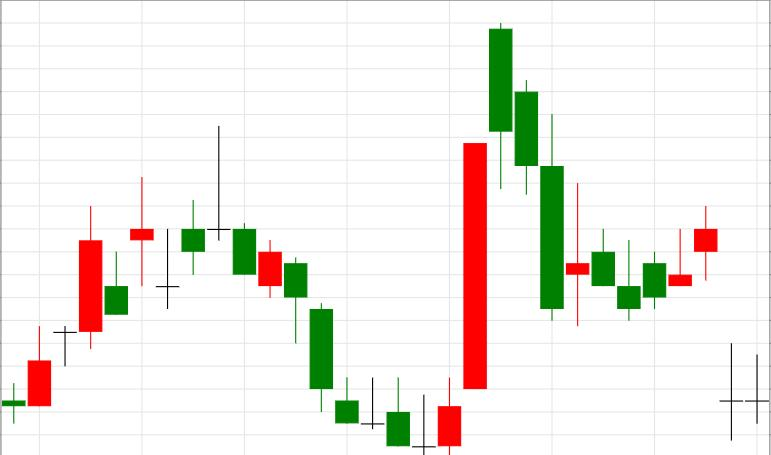morning_star_rise: (233, 221, 461, 455)
